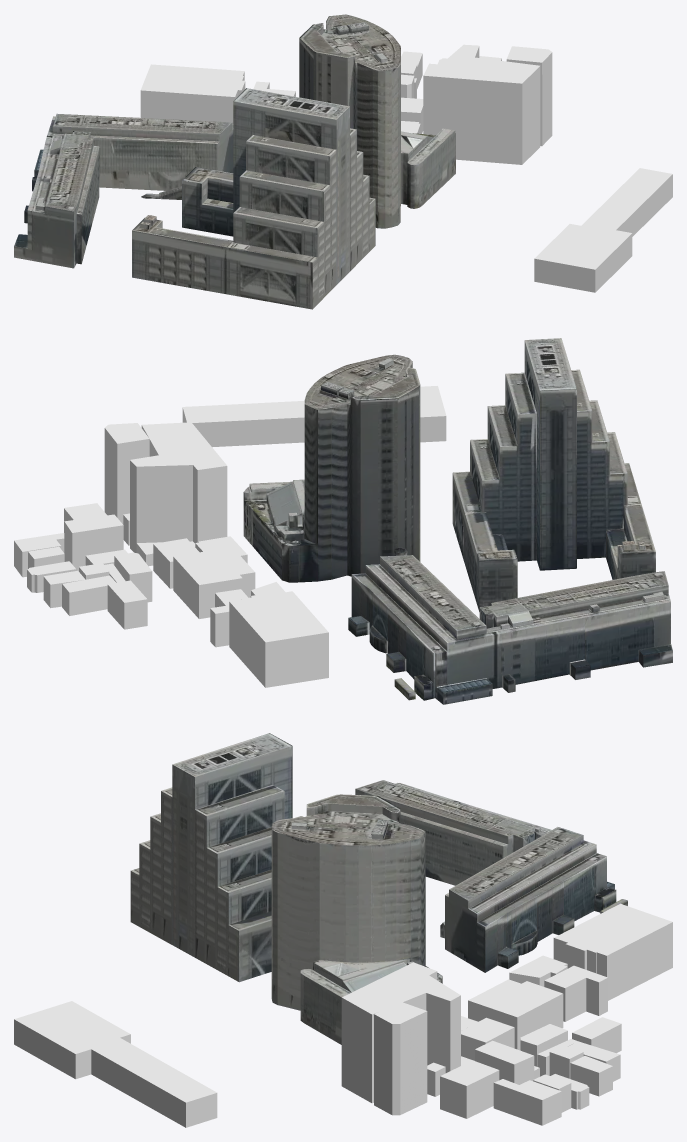
The model's file is data418.glb.
The picture shows the model from 3 angles, top to bottom: view 1: azimuth 30°, elevation 25°; view 2: azimuth 150°, elevation 25°; view 3: azimuth 270°, elevation 25°; orthographic projection. The views are drawn at different scales.
Bounding box in the file's own units: 231 × 66.67 × 217.
2 materials, 1 textured.
